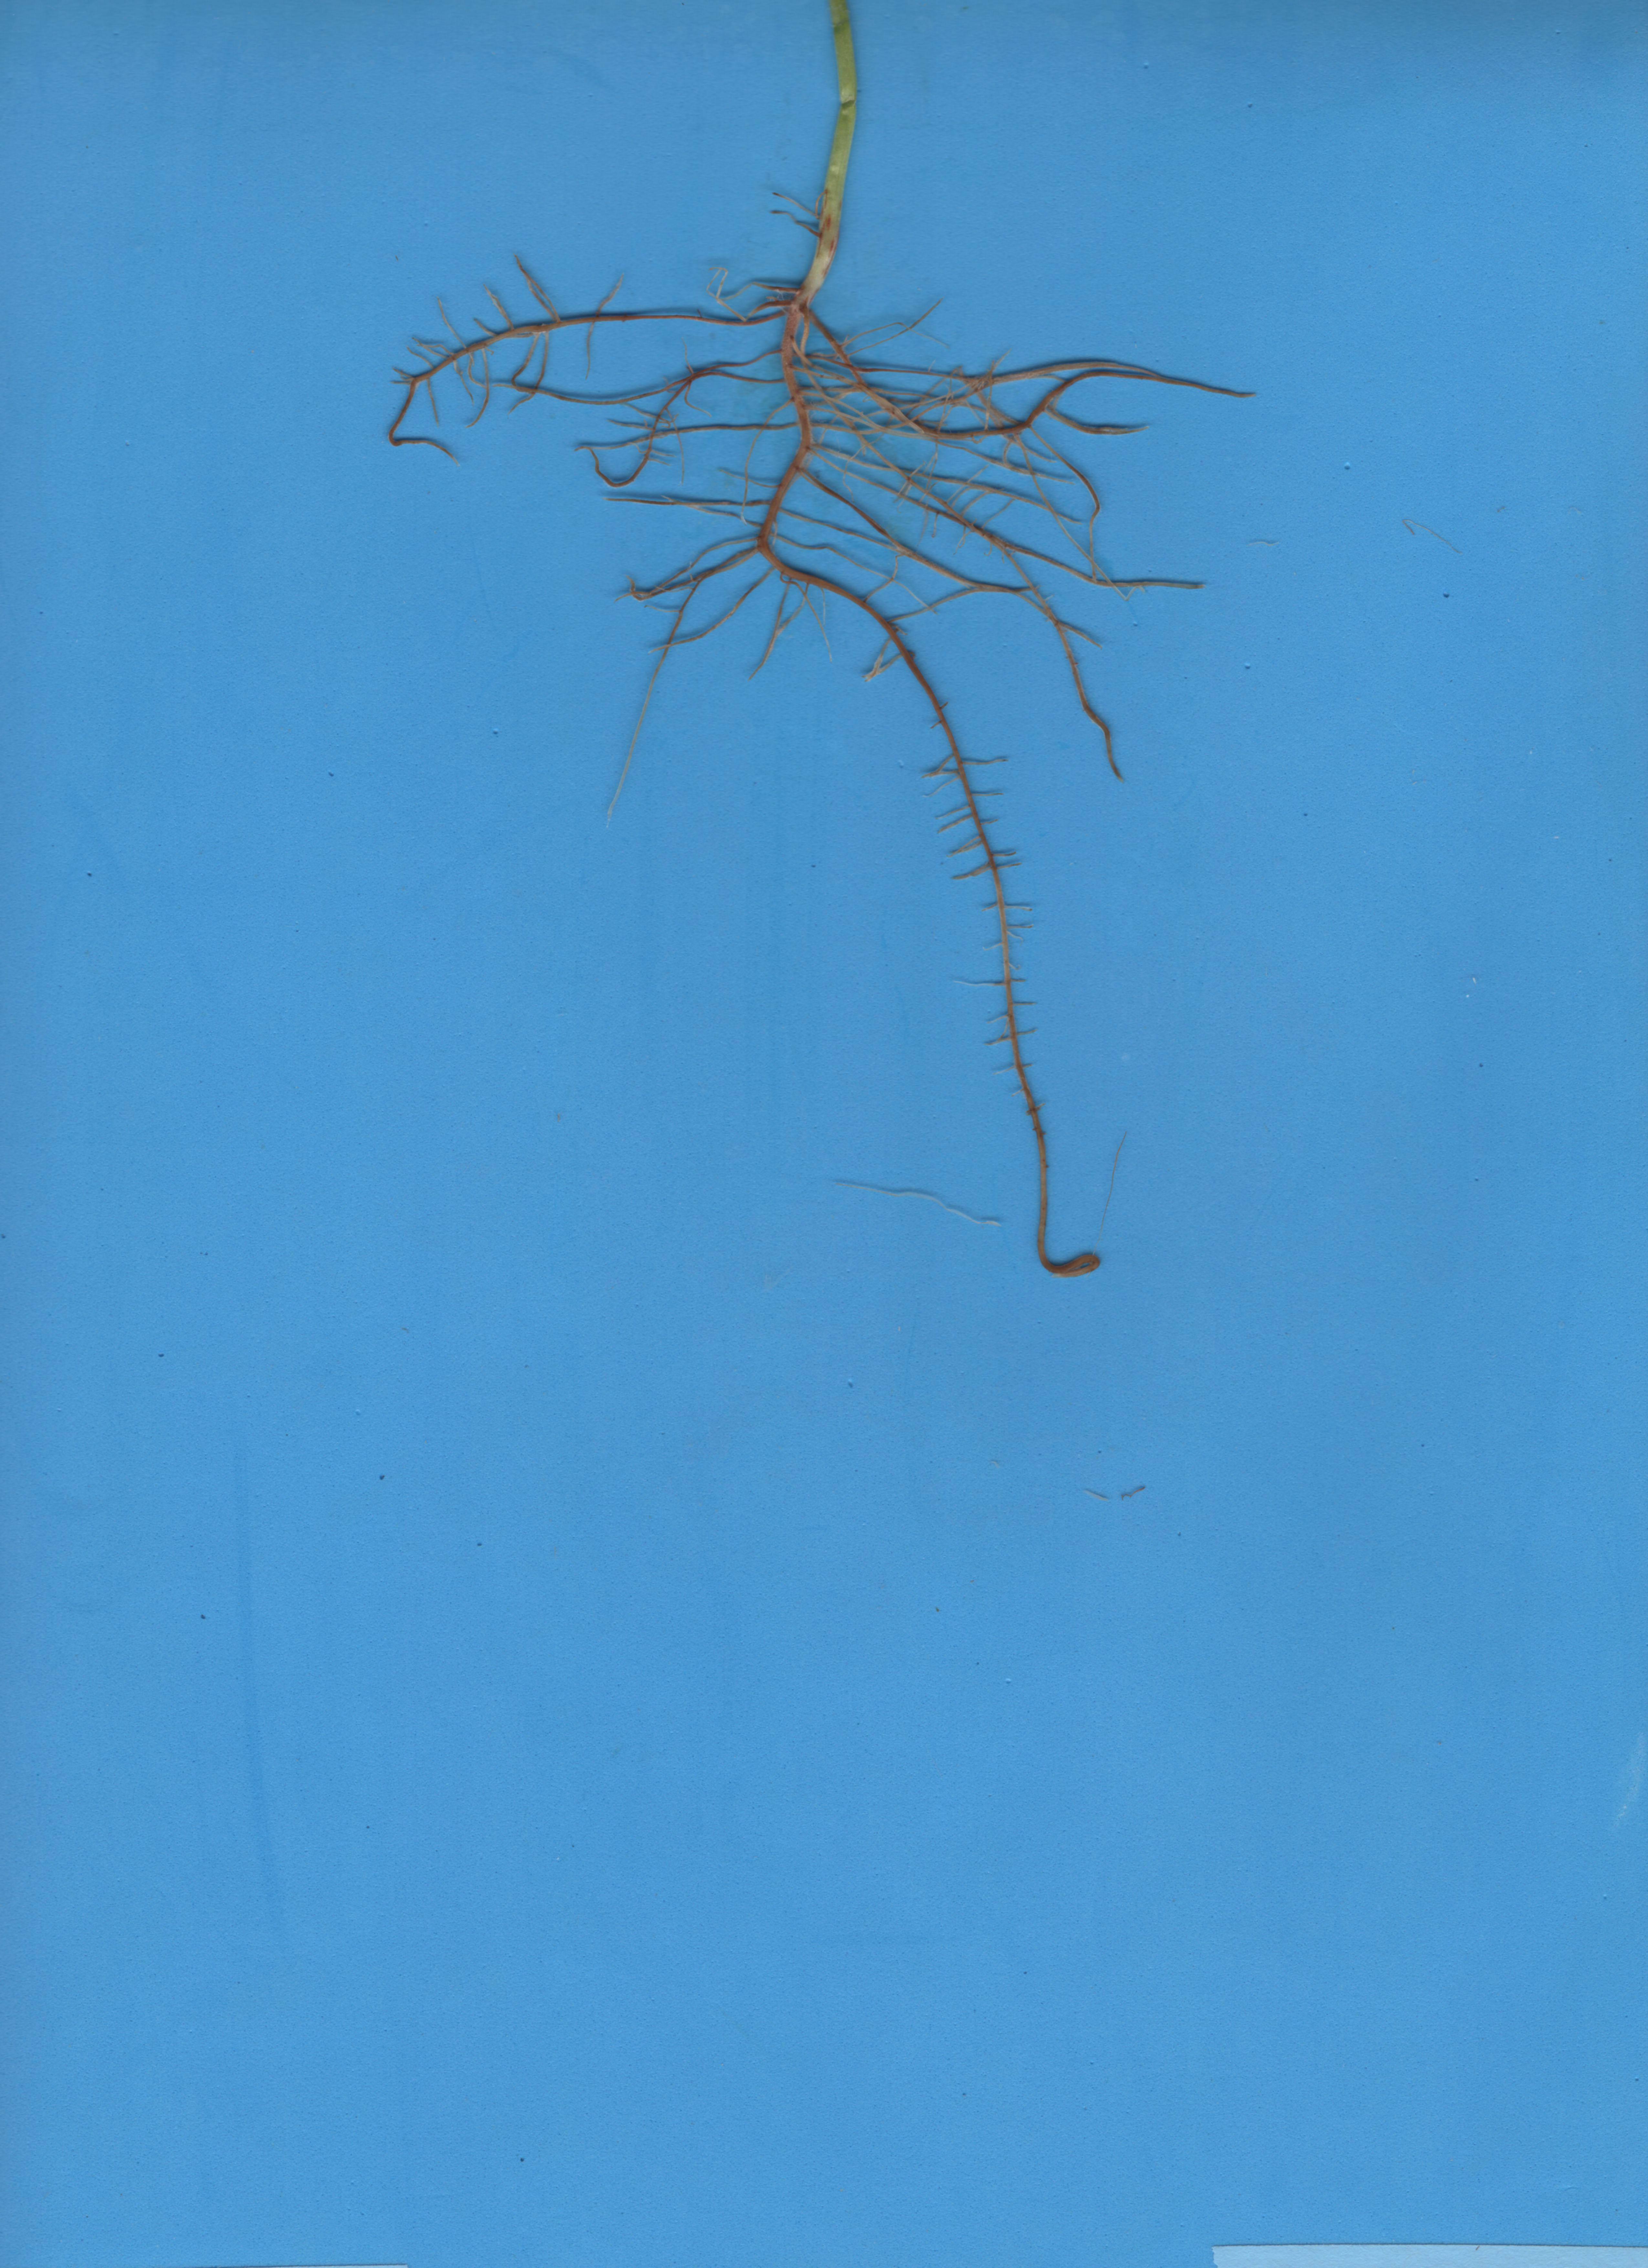CROWNGOOD: (787, 0, 894, 335)
ROOTDISEASE: (343, 239, 1278, 1328)
